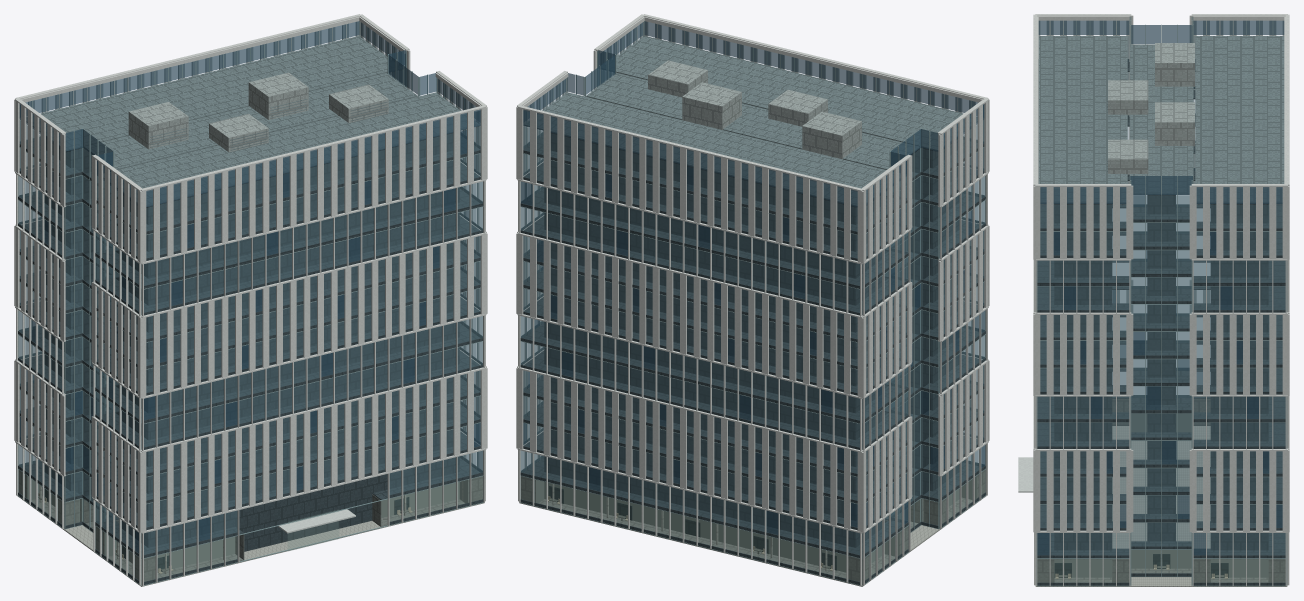
The picture shows the model from 3 angles, left to right: view 1: azimuth 30°, elevation 25°; view 2: azimuth 150°, elevation 25°; view 3: azimuth 270°, elevation 25°; orthographic projection.
Parts seen in each view (by area): view 1: 03_Columns_and_Fins__Warm silver aluminium, 01_MainBody__Opaque facade backing, Entrance_elevation_Glass_plane__Glazing_office, 07_Roof__Roof membrane, Entrance_elevation_Depth__Opaque facade backing, 04_FloorBands__Opaque facade backing, 04_FloorBands__Warm silver aluminium, Entrance_elevation_Glass_plane__Glazing_reflective, 07_Roof__Roof equipment, 03_Columns_and_Fins__Slender anodised mullions, Rear_elevation_PROVISIONAL_Glass_plane__Glazing_reflective, Side_-1_return_-1_Glass_plane__Glazing_office (+27 smaller); view 2: 03_Columns_and_Fins__Warm silver aluminium, Rear_elevation_PROVISIONAL_Glass_plane__Glazing_office, 01_MainBody__Opaque facade backing, 07_Roof__Roof membrane, Rear_elevation_PROVISIONAL_Depth__Opaque facade backing, 04_FloorBands__Opaque facade backing, 04_FloorBands__Warm silver aluminium, Rear_elevation_PROVISIONAL_Glass_plane__Glazing_reflective, 07_Roof__Roof equipment, 03_Columns_and_Fins__Slender anodised mullions, Rear_elevation_PROVISIONAL_Glass_plane__Glazing_clear, Entrance_elevation_Glass_plane__Glazing_reflective (+25 smaller); view 3: 03_Columns_and_Fins__Warm silver aluminium, 07_Roof__Roof membrane, 01_MainBody__Opaque facade backing, Side_1_wing_-1_Glass_plane__Glazing_office, Side_1_wing_1_Glass_plane__Glazing_office, Side_1_recess_Glass_plane__Glazing_office, 04_FloorBands__Opaque facade backing, 07_Roof__Roof equipment, 04_FloorBands__Warm silver aluminium, Foundation, Side_1_recess_Depth__Opaque facade backing, Side_1_wing_-1_Depth__Opaque facade backing (+24 smaller).
Part boxes in pixels (bbox=[...]): 03_Columns_and_Fins__Warm silver aluminium: bbox=[14, 21, 487, 585]; 01_MainBody__Opaque facade backing: bbox=[44, 132, 459, 551]; Entrance_elevation_Glass_plane__Glazing_office: bbox=[144, 127, 482, 554]; 07_Roof__Roof membrane: bbox=[26, 36, 479, 206]; Entrance_elevation_Depth__Opaque facade backing: bbox=[136, 148, 480, 558]; 04_FloorBands__Opaque facade backing: bbox=[18, 133, 483, 584]; 04_FloorBands__Warm silver aluminium: bbox=[15, 14, 486, 533]; Entrance_elevation_Glass_plane__Glazing_reflective: bbox=[144, 109, 480, 541]; 07_Roof__Roof equipment: bbox=[128, 72, 388, 152]; 03_Columns_and_Fins__Slender anodised mullions: bbox=[18, 21, 483, 585]; Rear_elevation_PROVISIONAL_Glass_plane__Glazing_reflective: bbox=[20, 21, 359, 439]; Side_-1_return_-1_Glass_plane__Glazing_office: bbox=[66, 148, 82, 498]; 03_Columns_and_Fins__Warm silver aluminium: bbox=[516, 21, 989, 585]; Rear_elevation_PROVISIONAL_Glass_plane__Glazing_office: bbox=[521, 127, 859, 554]; 01_MainBody__Opaque facade backing: bbox=[544, 132, 959, 547]; 07_Roof__Roof membrane: bbox=[524, 36, 977, 206]; Rear_elevation_PROVISIONAL_Depth__Opaque facade backing: bbox=[523, 146, 867, 558]; 04_FloorBands__Opaque facade backing: bbox=[520, 132, 985, 584]; 04_FloorBands__Warm silver aluminium: bbox=[517, 14, 988, 533]; Rear_elevation_PROVISIONAL_Glass_plane__Glazing_reflective: bbox=[521, 109, 857, 534]; 07_Roof__Roof equipment: bbox=[648, 60, 861, 159]; 03_Columns_and_Fins__Slender anodised mullions: bbox=[520, 21, 985, 585]; Rear_elevation_PROVISIONAL_Glass_plane__Glazing_clear: bbox=[521, 476, 859, 581]; Entrance_elevation_Glass_plane__Glazing_reflective: bbox=[644, 21, 984, 331]; 03_Columns_and_Fins__Warm silver aluminium: bbox=[1033, 15, 1289, 586]; 07_Roof__Roof membrane: bbox=[1039, 36, 1284, 202]; 01_MainBody__Opaque facade backing: bbox=[1054, 195, 1268, 550]; Side_1_wing_-1_Glass_plane__Glazing_office: bbox=[1194, 205, 1285, 554]; Side_1_wing_1_Glass_plane__Glazing_office: bbox=[1037, 205, 1128, 554]; Side_1_recess_Glass_plane__Glazing_office: bbox=[1131, 195, 1191, 545]; 04_FloorBands__Opaque facade backing: bbox=[1037, 59, 1285, 585]; 07_Roof__Roof equipment: bbox=[1108, 43, 1194, 174]; 04_FloorBands__Warm silver aluminium: bbox=[1033, 14, 1289, 532]; Foundation: bbox=[1035, 426, 1287, 586]; Side_1_recess_Depth__Opaque facade backing: bbox=[1131, 214, 1191, 546]; Side_1_wing_-1_Depth__Opaque facade backing: bbox=[1193, 223, 1285, 555].
Size of the model in its own units: 60.78 by 67.18 by 40.64.
Materials: 86 (56 with a texture image).
